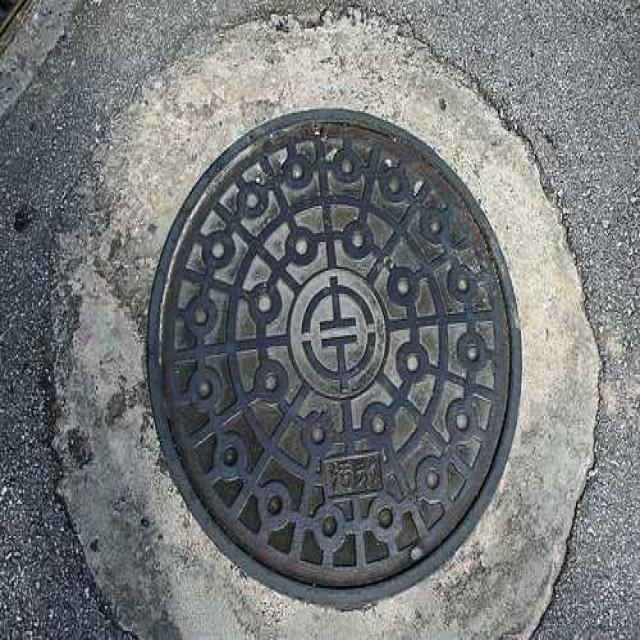manhole: (150, 112, 520, 607)
